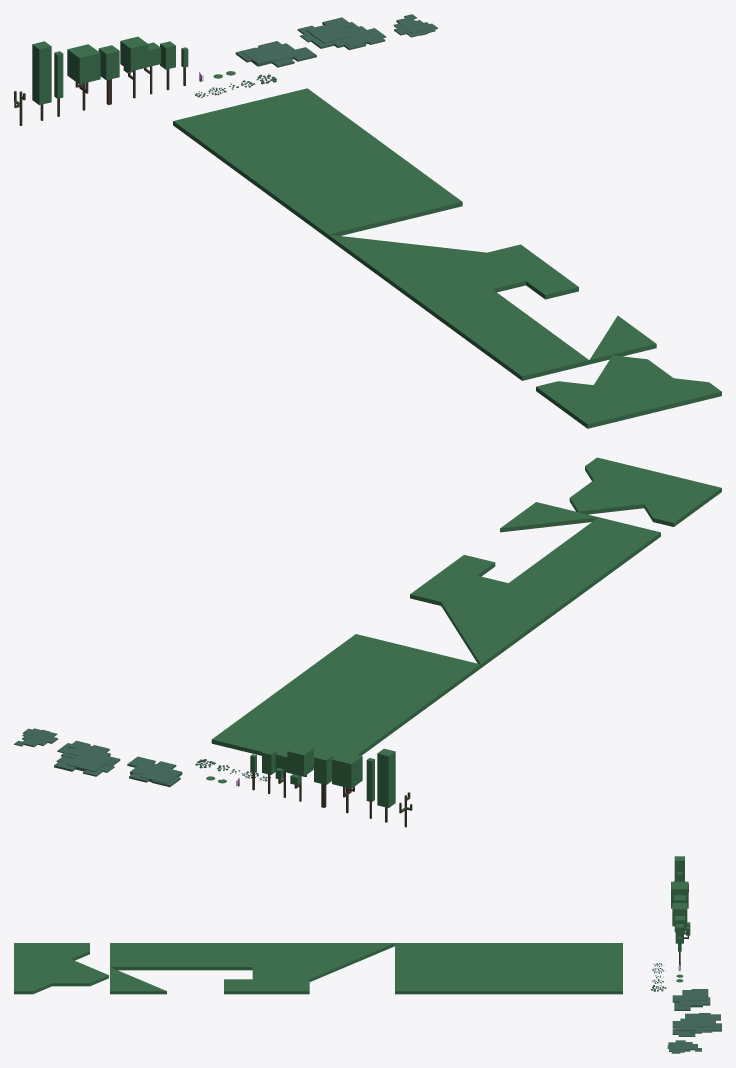
File: Trees.fbx
3 views of the same model, one above another, from view 1: azimuth 30°, elevation 25°; view 2: azimuth 150°, elevation 25°; view 3: azimuth 270°, elevation 25° (orthographic). The views are drawn at different scales.
Visible parts, largest first — view 1: Terrain 1, Terrain 2, Terrain 5, Terrain 6, Terrain 3, Terrain 7, Uneven Ground 2, Terrain 11, Terrain 8, Terrain 4, Tree 6, Uneven Ground 1 (+4 smaller); view 2: Terrain 1, Terrain 2, Terrain 5, Terrain 3, Terrain 6, Terrain 7, Uneven Ground 2, Terrain 11, Terrain 8, Terrain 4, Tree 6, Uneven Ground 1 (+4 smaller); view 3: Terrain 1, Terrain 2, Terrain 5, Terrain 6, Terrain 3, Terrain 7, Uneven Ground 2, Terrain 11, Terrain 4, Terrain 8, Uneven Ground 1, Terrain 9 (+2 smaller).
Part boxes in pixels (left/top/right/bottom): Terrain 1: left=173, top=88, right=384, bottom=181; Terrain 2: left=250, top=161, right=462, bottom=238; Terrain 5: left=536, top=355, right=721, bottom=428; Terrain 6: left=444, top=303, right=589, bottom=380; Terrain 3: left=328, top=234, right=538, bottom=295; Terrain 7: left=406, top=275, right=511, bottom=323; Uneven Ground 2: left=297, top=17, right=386, bottom=50; Terrain 11: left=589, top=315, right=656, bottom=364; Terrain 8: left=473, top=258, right=559, bottom=292; Terrain 4: left=318, top=145, right=422, bottom=173; Tree 6: left=67, top=44, right=100, bottom=110; Uneven Ground 1: left=235, top=41, right=316, bottom=67; Terrain 1: left=211, top=687, right=408, bottom=768; Terrain 2: left=320, top=634, right=480, bottom=720; Terrain 5: left=569, top=457, right=721, bottom=526; Terrain 3: left=428, top=581, right=552, bottom=668; Terrain 6: left=527, top=517, right=660, bottom=588; Terrain 7: left=491, top=570, right=588, bottom=615; Uneven Ground 2: left=54, top=740, right=120, bottom=776; Terrain 11: left=500, top=502, right=598, bottom=532; Terrain 8: left=428, top=568, right=507, bottom=596; Terrain 4: left=284, top=660, right=345, bottom=701; Tree 6: left=332, top=751, right=362, bottom=813; Uneven Ground 1: left=127, top=756, right=182, bottom=787; Terrain 1: left=509, top=943, right=622, bottom=994; Terrain 2: left=395, top=943, right=508, bottom=994; Terrain 5: left=14, top=943, right=108, bottom=994; Terrain 6: left=110, top=943, right=223, bottom=970; Terrain 3: left=281, top=943, right=394, bottom=990; Terrain 7: left=224, top=943, right=280, bottom=970; Uneven Ground 2: left=672, top=1013, right=721, bottom=1036; Terrain 11: left=110, top=967, right=166, bottom=994; Terrain 4: left=452, top=967, right=508, bottom=994; Terrain 8: left=252, top=967, right=280, bottom=994; Uneven Ground 1: left=672, top=989, right=710, bottom=1010; Terrain 9: left=224, top=979, right=252, bottom=994.
Bounding box in the file's own units: 4976 × 863 × 9942.
